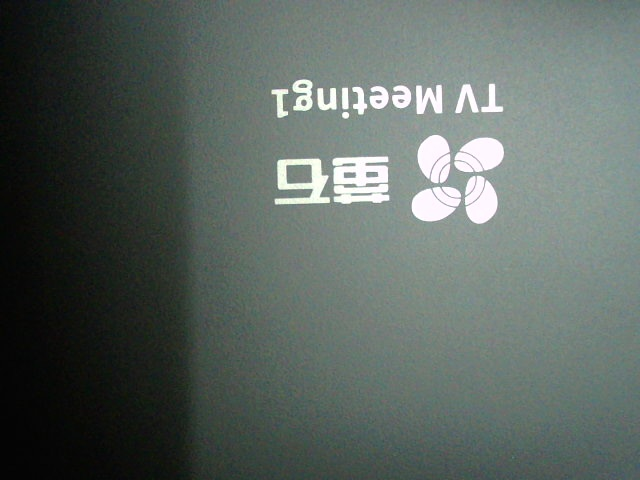BA_Yingshi: (267, 78, 508, 227)
